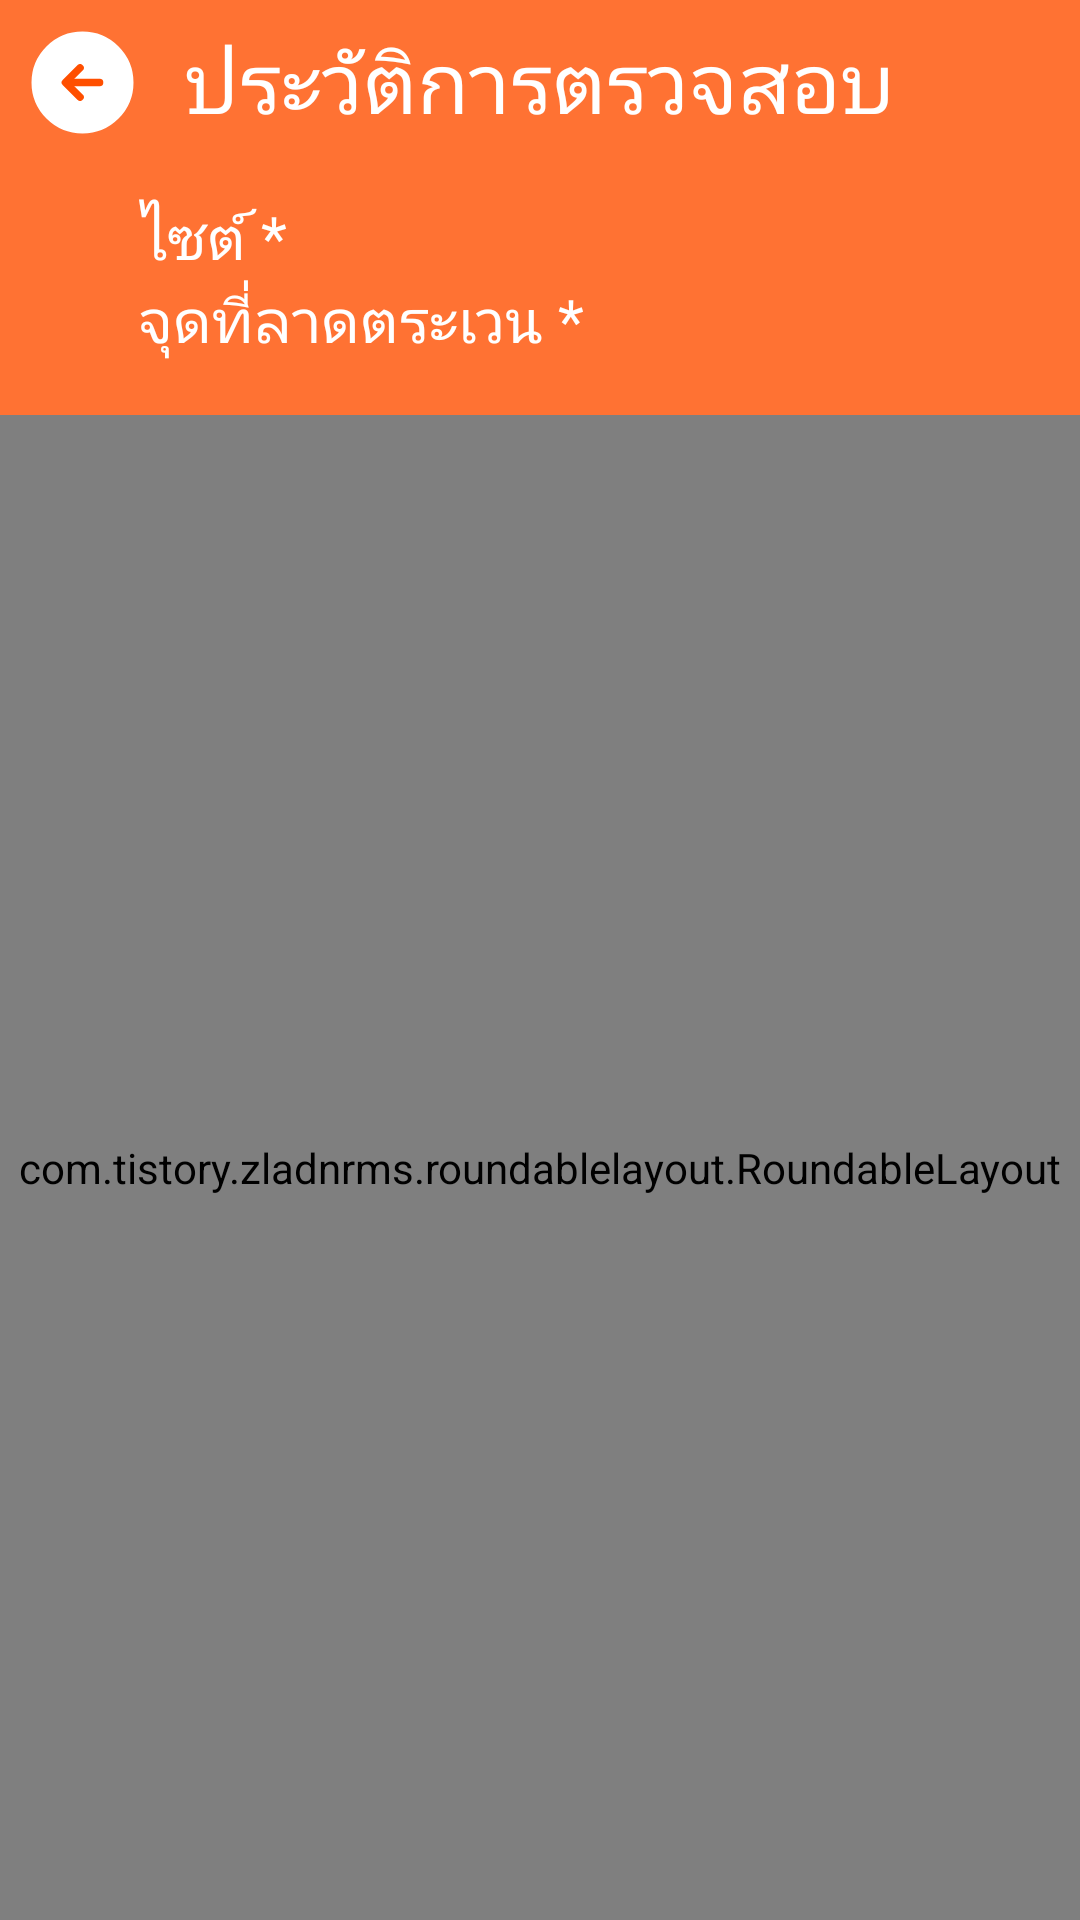

Icon bounding boxes for this 1080w x 1920h phone screenshot, format (x1, y1, x2, y2):
arrow left: (31, 31, 134, 134)
